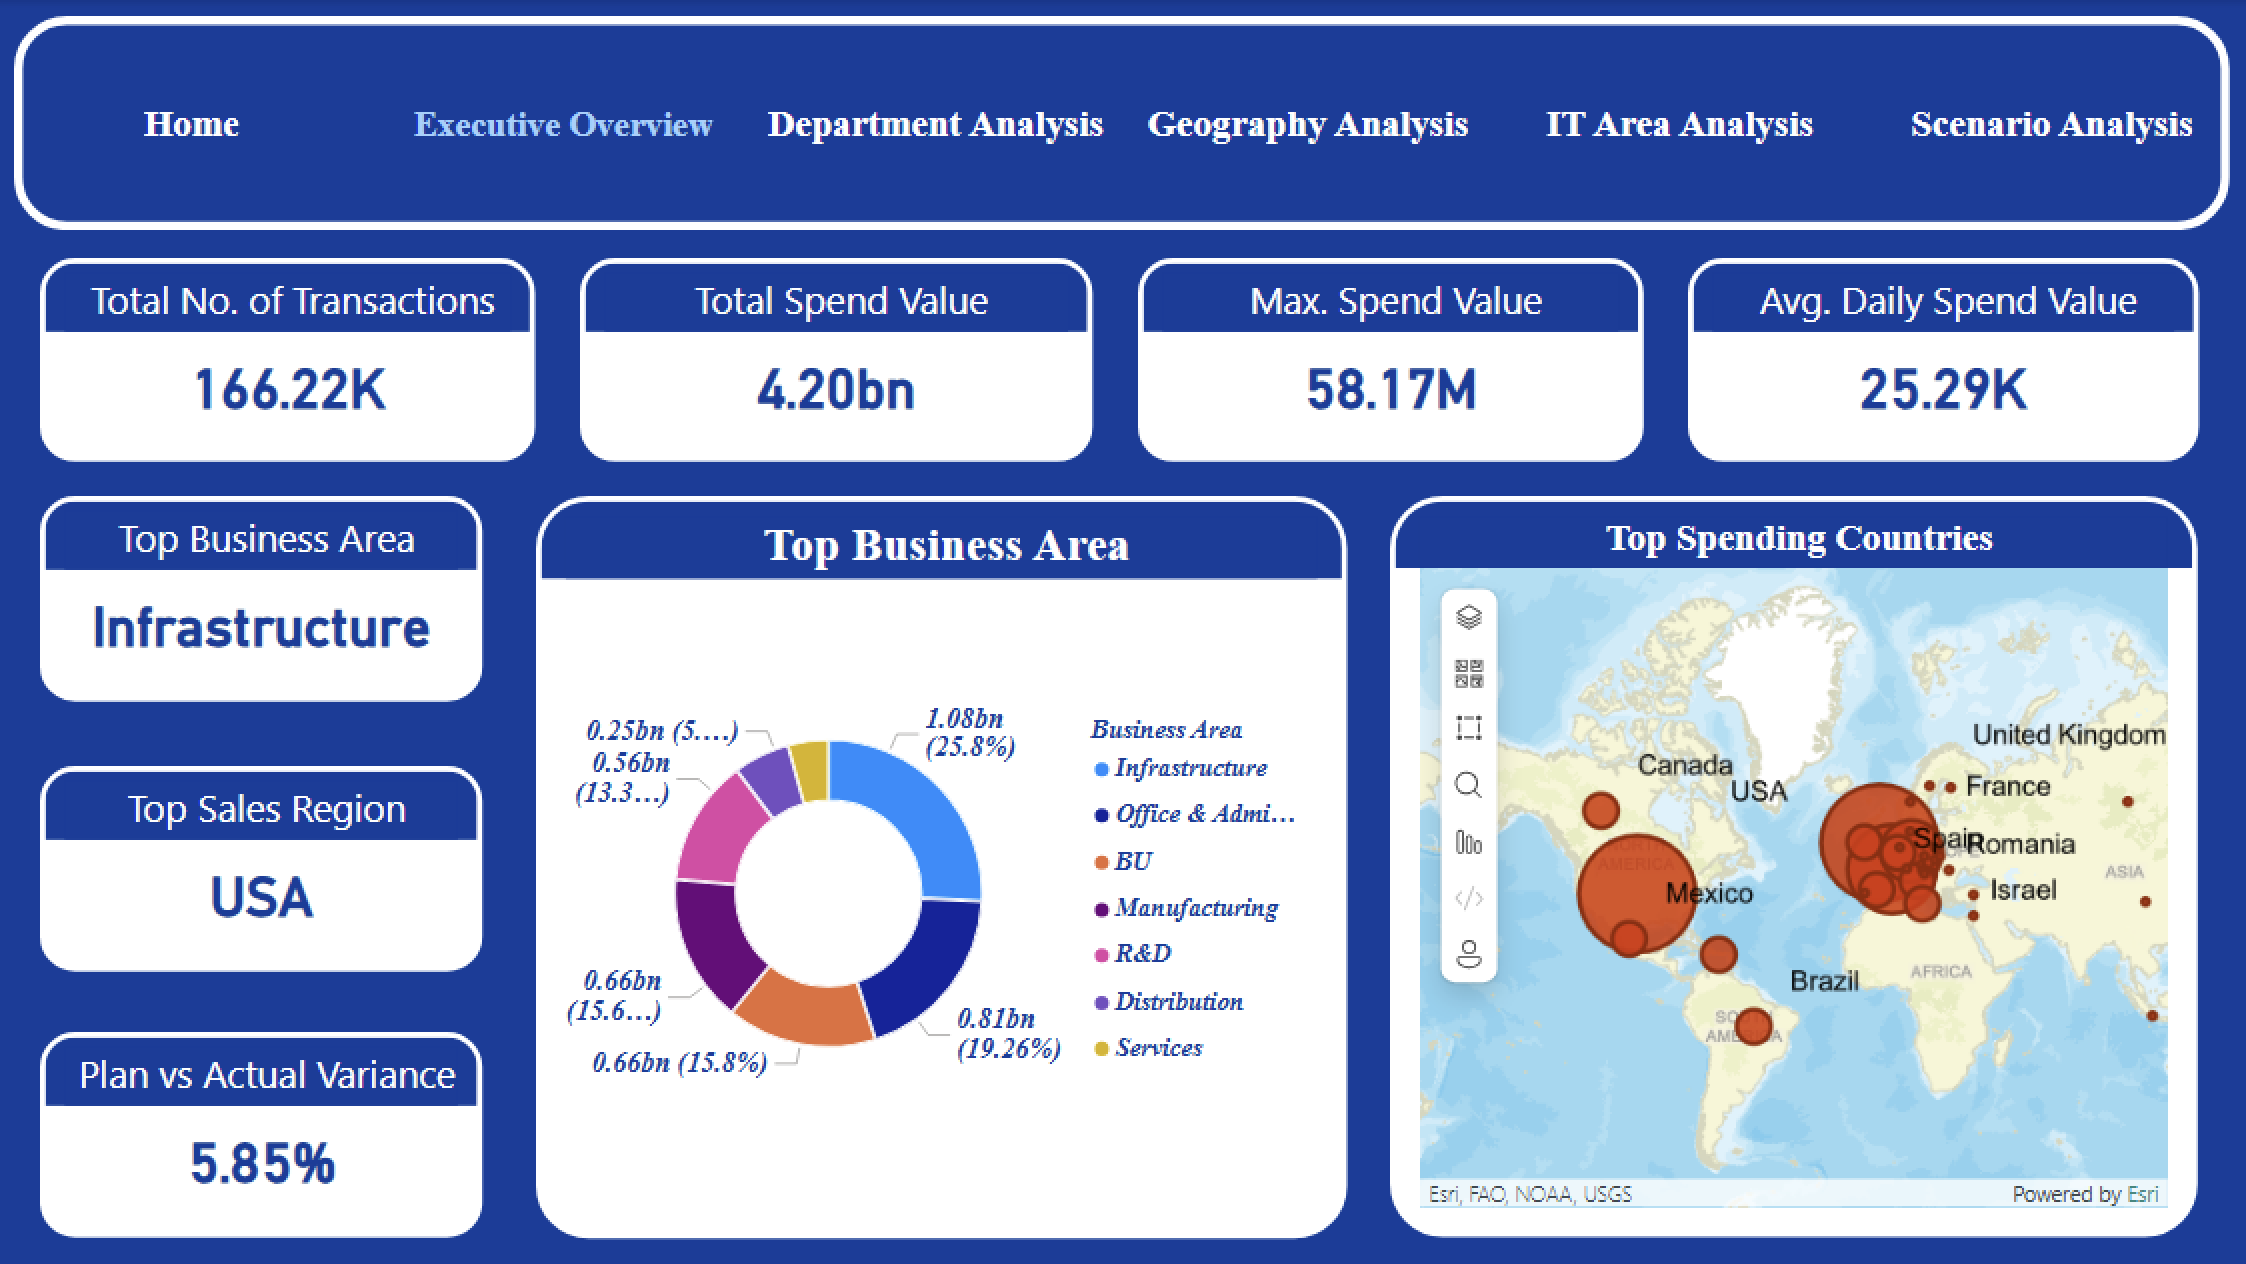

What the dashboard file says about the page in this screenshot:
{"tool":"powerbi","page":{"name":"Executive Overview","canvas":[1280,720],"ordinal":1},"visuals":[{"type":"textbox","box":[8.2,9.6,1262.2,122],"z":0},{"type":"card","title":"Total Spend Value","fields":{"Values":["Transaction.Total Spend Value"]},"box":[330.3,146.6,291.9,116.5],"z":1000},{"type":"card","title":"Avg. Daily Spend Value","fields":{"Values":["Avg(Transaction.Transaction Value)"]},"box":[962.1,146.6,290.5,116.5],"z":2000},{"type":"card","title":"Max. Spend Value","fields":{"Values":["Transaction.Max Spend Value"]},"box":[648.2,146.6,287.8,116.5],"z":3000},{"type":"card","title":"Total No. of Transactions","fields":{"Values":["CountNonNull(Transaction.Transaction Value)"]},"box":[23.3,146.6,282.3,116.5],"z":4000},{"type":"card","title":"Top Business Area","fields":{"Values":["Transaction.Top Business Area"]},"box":[22.9,283,252.4,117.3],"z":5000},{"type":"card","title":"Top Sales Region","fields":{"Values":["Transaction.Top Sales Region"]},"box":[22.9,436,252.4,117.3],"z":6000},{"type":"card","title":"Plan vs Actual Variance","fields":{"Values":["Transaction.Plan Vs Actual Spend"]},"box":[22.9,587.7,252.4,117.3],"z":7000},{"type":"esriVisual","title":"Top Spending Countries","fields":{"Size":["Sum(Transaction.Transaction Value)"],"Location":["Sales Geography.Sales Country"]},"box":[791.7,283,460.2,422],"z":8000},{"type":"donutChart","title":"Top Business Area","fields":{"Category":["Department.Business Area"],"Y":["Sum(Transaction.Transaction Value)"]},"box":[305.1,282.7,462.3,422.7],"z":10000},{"type":"pageNavigator","box":[8.3,28.4,1262.2,85.3],"z":11000}]}

Visuals, with their boxes in screenshot pixels (x1, y1, x2, y2), scaled from the page's 1280x720 canvas onto the 2246x1264 screenshot:
textbox: pyautogui.locateOnScreen(14, 17, 2229, 231)
"Total Spend Value" card: pyautogui.locateOnScreen(580, 257, 1092, 462)
"Avg. Daily Spend Value" card: pyautogui.locateOnScreen(1688, 257, 2198, 462)
"Max. Spend Value" card: pyautogui.locateOnScreen(1137, 257, 1642, 462)
"Total No. of Transactions" card: pyautogui.locateOnScreen(41, 257, 536, 462)
"Top Business Area" card: pyautogui.locateOnScreen(40, 497, 483, 703)
"Top Sales Region" card: pyautogui.locateOnScreen(40, 765, 483, 971)
"Plan vs Actual Variance" card: pyautogui.locateOnScreen(40, 1032, 483, 1238)
"Top Spending Countries" esriVisual: pyautogui.locateOnScreen(1389, 497, 2197, 1238)
"Top Business Area" donutChart: pyautogui.locateOnScreen(535, 496, 1347, 1238)
pageNavigator: pyautogui.locateOnScreen(15, 50, 2229, 200)
